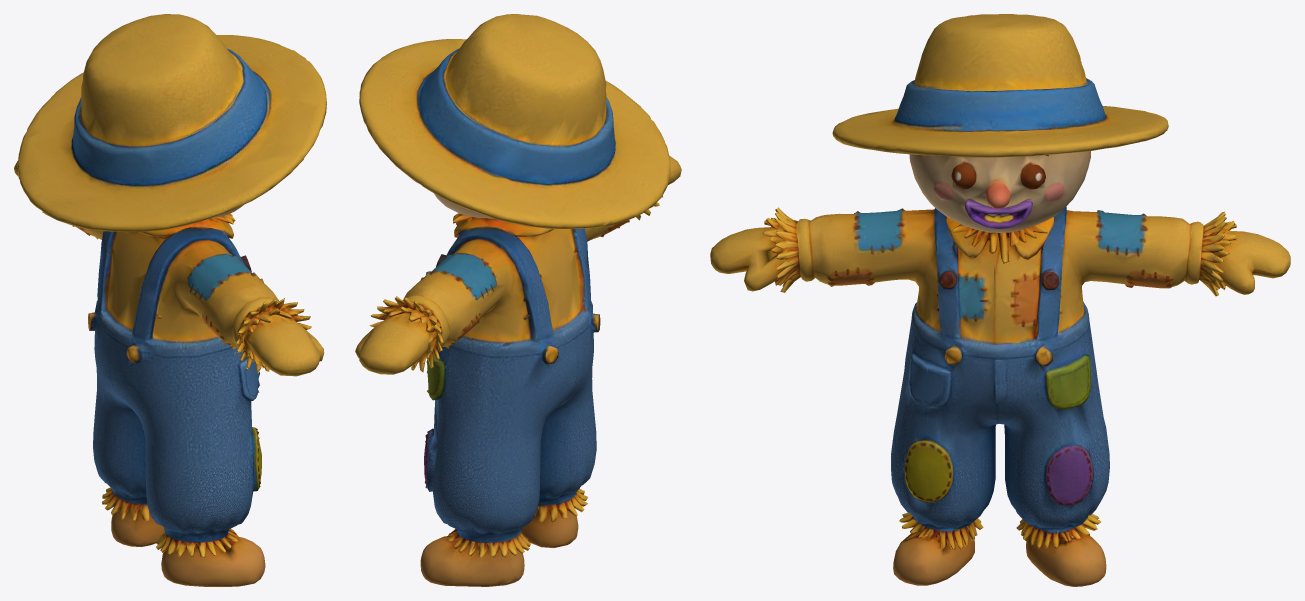
File: scarecrow.glb
The picture shows the model from 3 angles, left to right: view 1: azimuth 30°, elevation 25°; view 2: azimuth 150°, elevation 25°; view 3: azimuth 270°, elevation 25°; orthographic projection. The views are drawn at different scales.
Parts seen in each view (by area): view 1: tripo_node_e4846f96-9dbf-4d21-9962-b99df506d09e; view 2: tripo_node_e4846f96-9dbf-4d21-9962-b99df506d09e; view 3: tripo_node_e4846f96-9dbf-4d21-9962-b99df506d09e.
Boxes of the visible parts, x1,y1,x2,y2 form: tripo_node_e4846f96-9dbf-4d21-9962-b99df506d09e: (14, 14, 326, 586); tripo_node_e4846f96-9dbf-4d21-9962-b99df506d09e: (355, 14, 681, 586); tripo_node_e4846f96-9dbf-4d21-9962-b99df506d09e: (710, 14, 1290, 586).
Size of the model in its own units: 0.1581 by 0.3 by 0.2897.
1 material, 1 textured.
